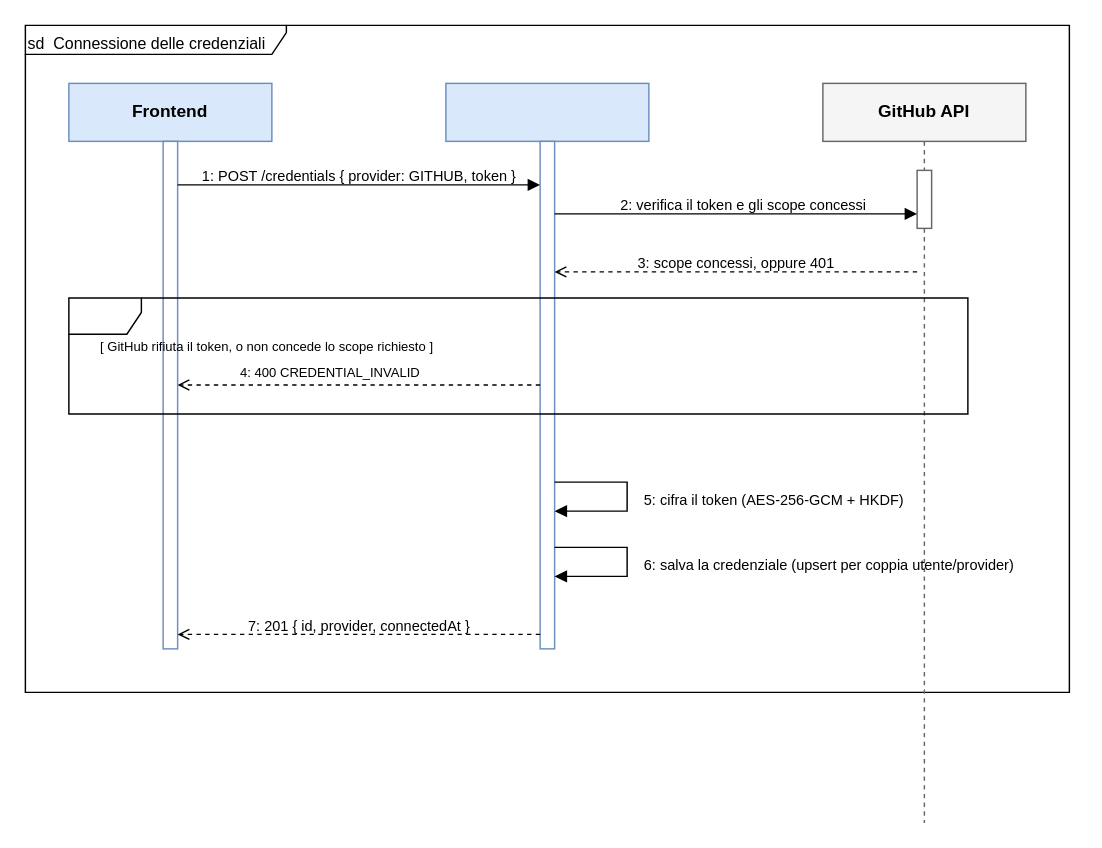
Some shapes in this 1102 by 848 pixel diagram are drawn without their labels. The shapes that lost their labels are listed below. From the top down, each one's box as (x1, y1, x2, y2) in pixels, then its label:
(67, 297, 968, 414): break
(444, 82, 649, 649): Backend (CredentialsService)
